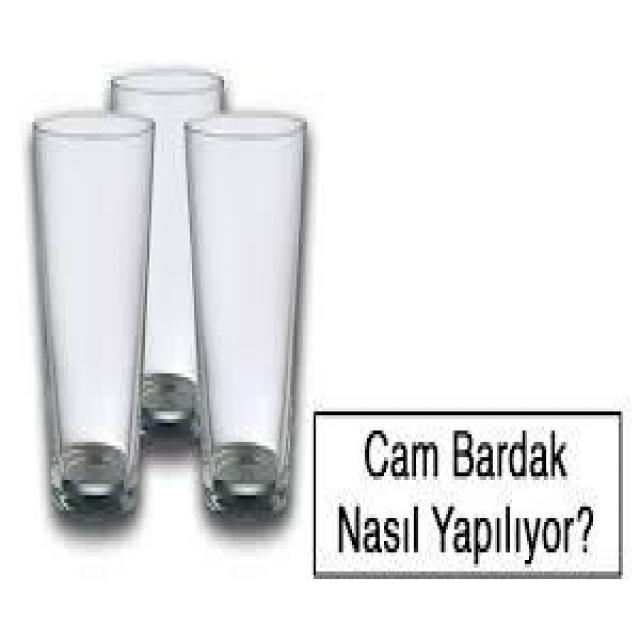non-organic waste: (182, 107, 310, 518)
